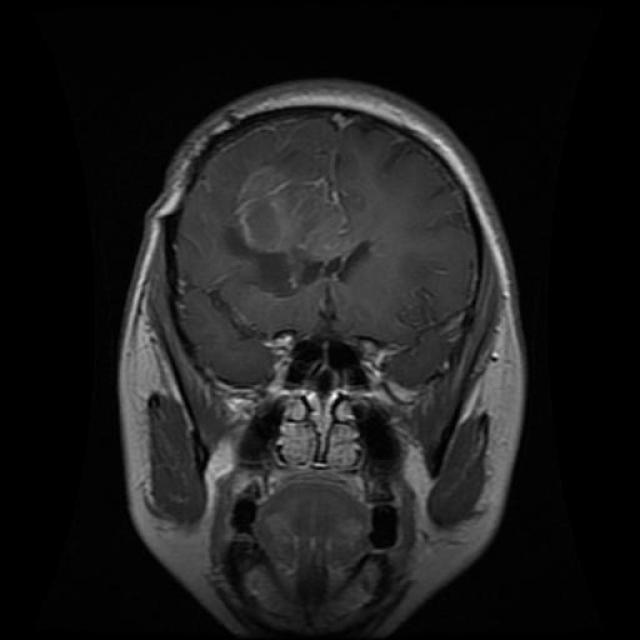Brain-Tumor: (224, 152, 383, 305)
